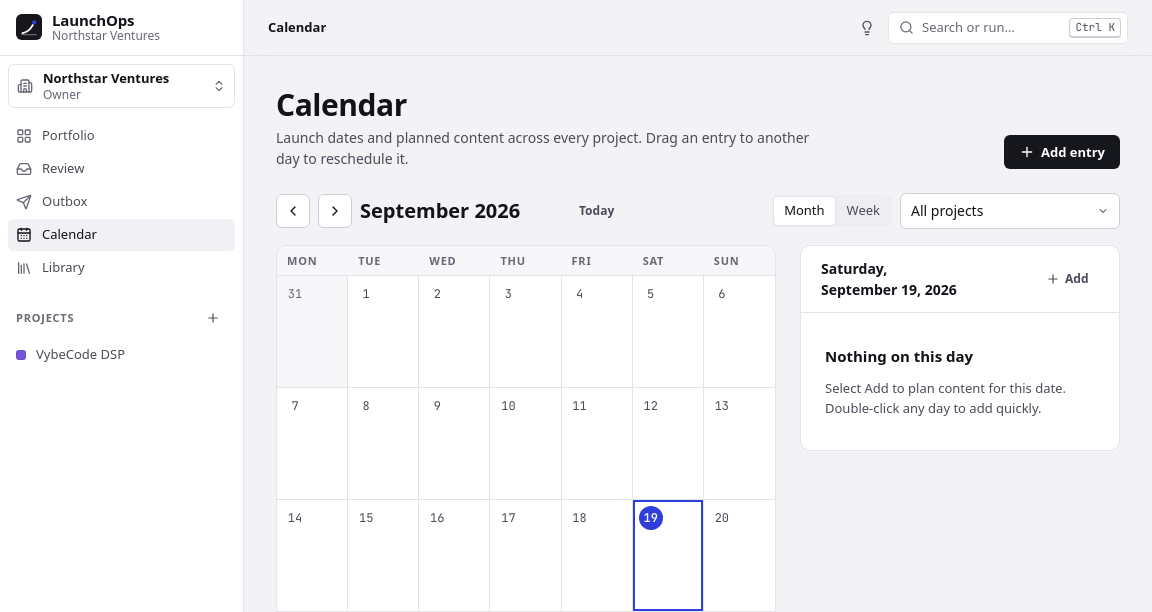
Test: Calendar navigation › steps through months and jumps back to today
Expected: the heading "September 2026" is shown, [360, 197, 520, 224]
Click the button named "Next month" at (335, 211), box [318, 194, 352, 228]
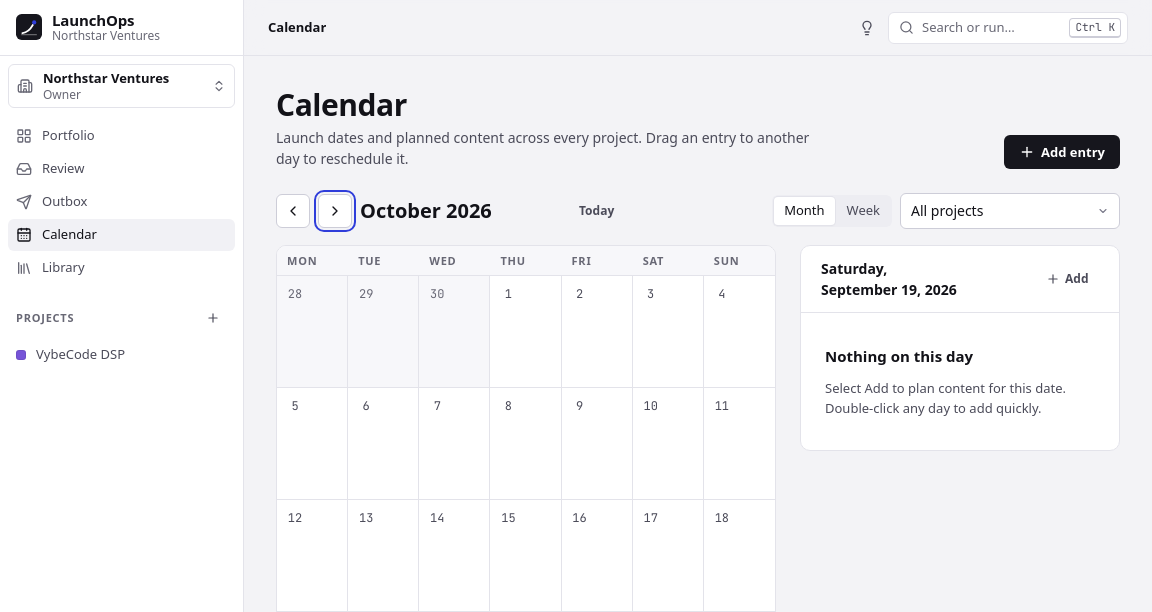
Click the button named "Previous month" at (293, 211), box [276, 194, 310, 228]
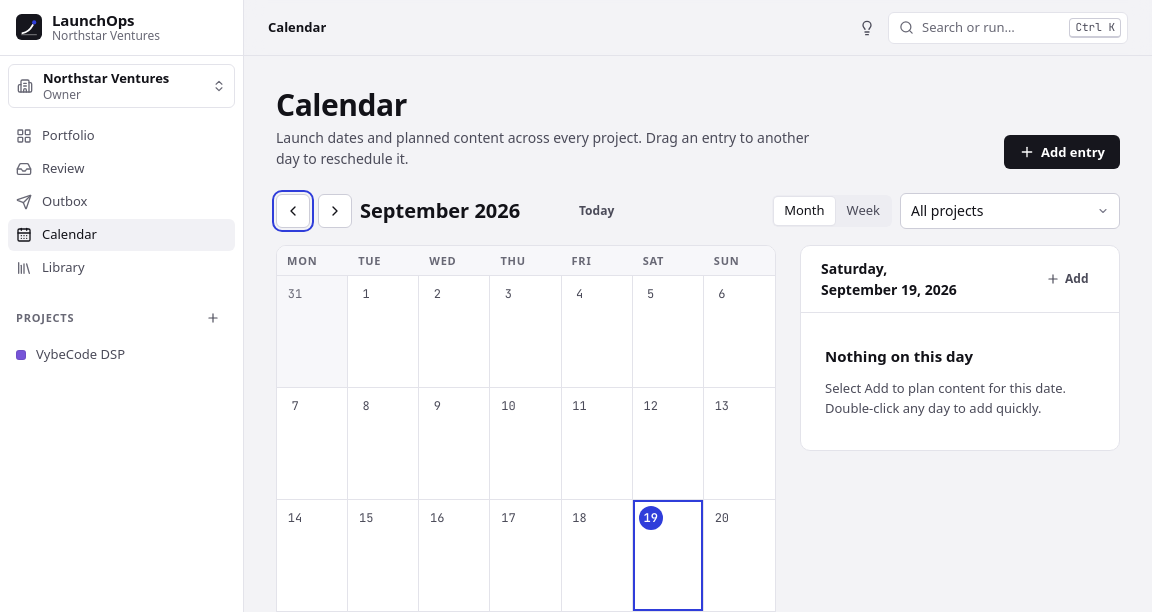
Click the button named "Previous month" at (293, 211), box [276, 194, 310, 228]
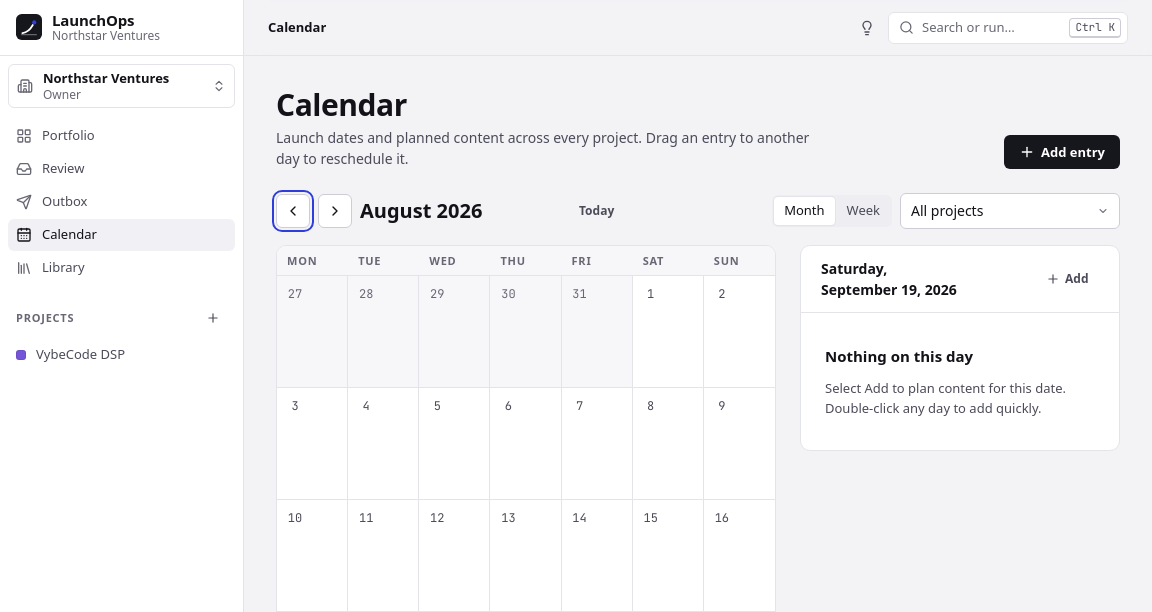
Click the button "1" at (668, 331), box [633, 276, 703, 387]
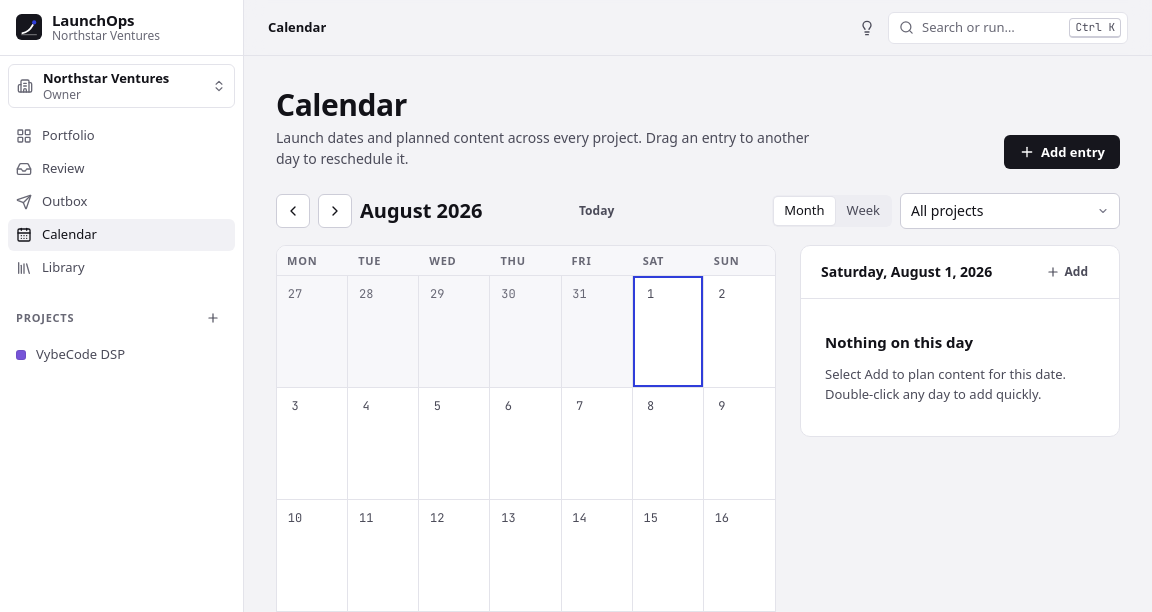
Click the button "Today" at (597, 211), box [568, 197, 625, 225]
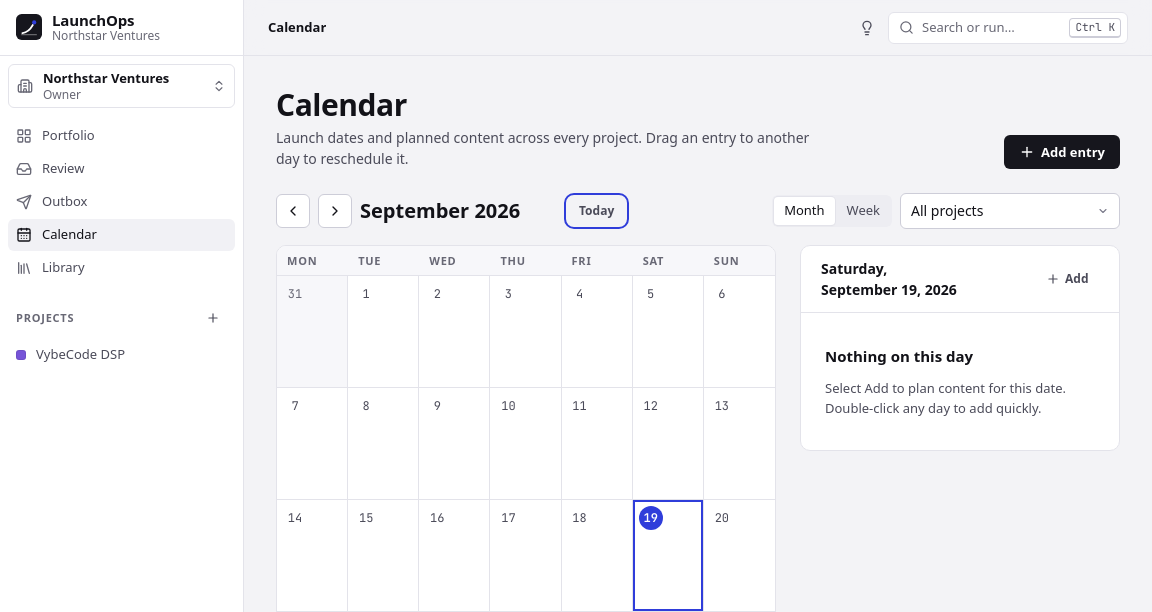
Expected: the heading "September 2026" is shown, [360, 197, 520, 224]
